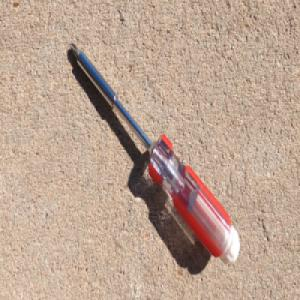Screwdriver: (68, 40, 241, 267)
